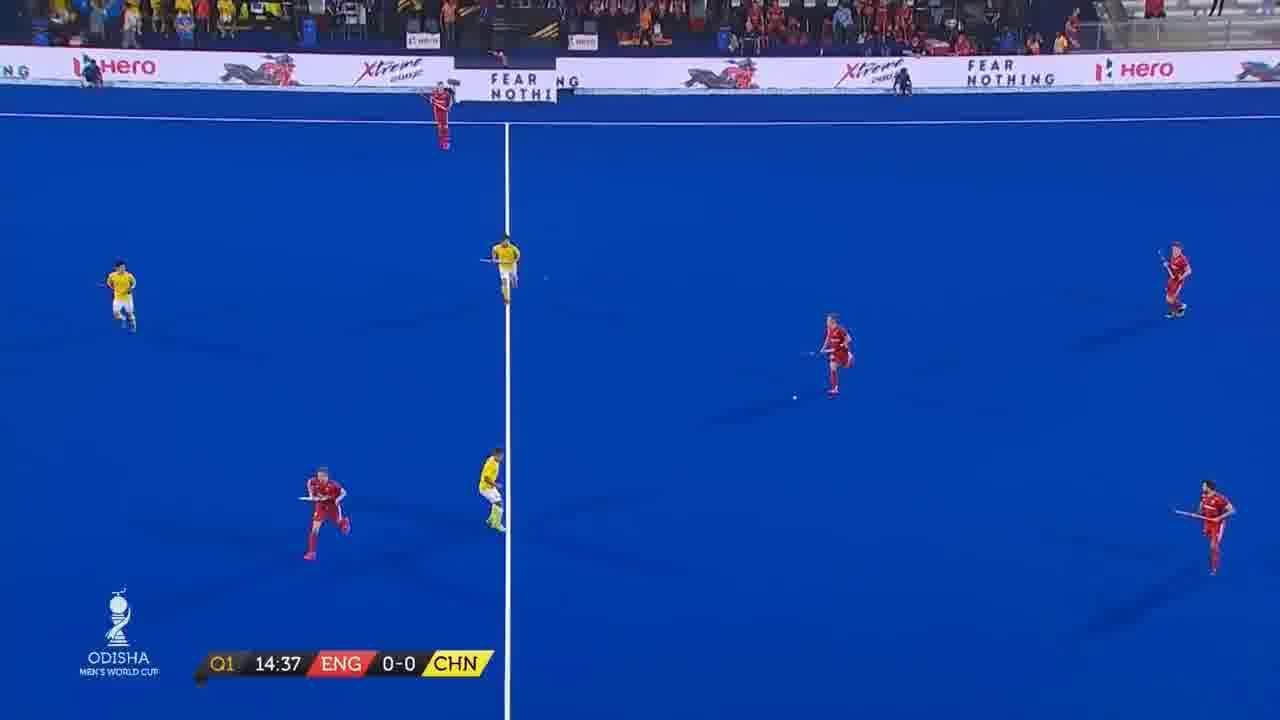ball: (786, 392, 806, 408)
